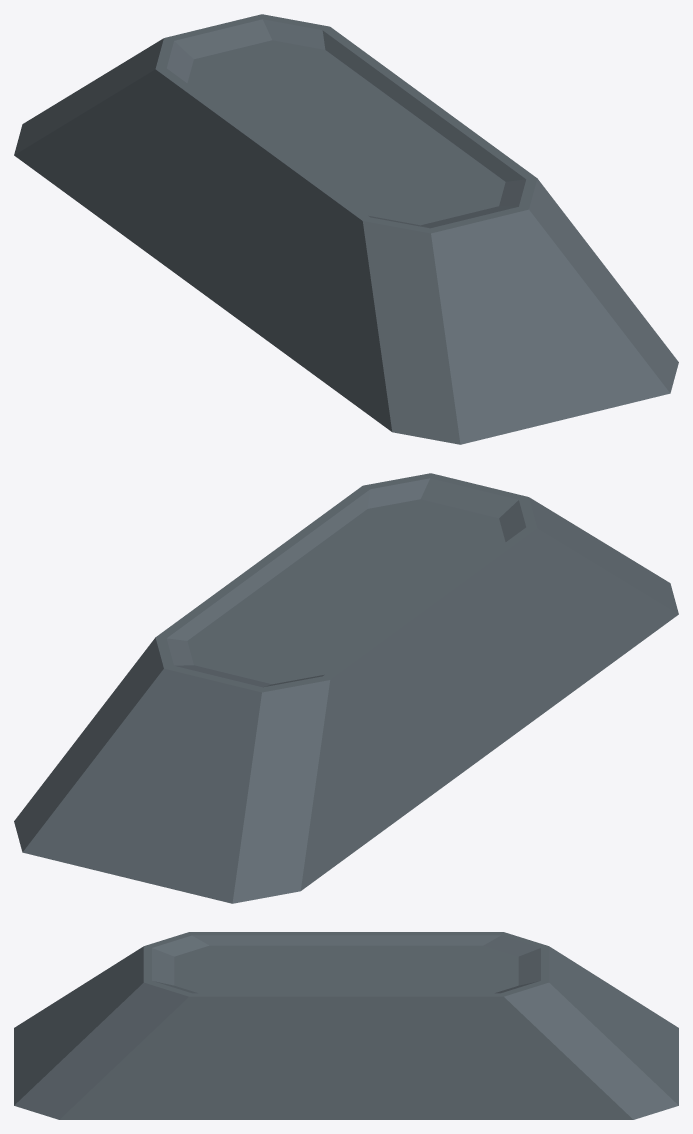
File: Lingote de acero.fbx
3 renders of one model, top to bottom at view 1: azimuth 30°, elevation 25°; view 2: azimuth 150°, elevation 25°; view 3: azimuth 270°, elevation 25°, orthographic. The views are drawn at different scales.
Parts seen in each view (by area): view 1: Cube; view 2: Cube; view 3: Cube.
Part boxes in pixels (x1,y1,x2,y2): Cube: (14,14,678,444); Cube: (14,473,678,903); Cube: (14,932,678,1119).
Bounding box in the file's own units: 34.91 × 15.71 × 92.37.
